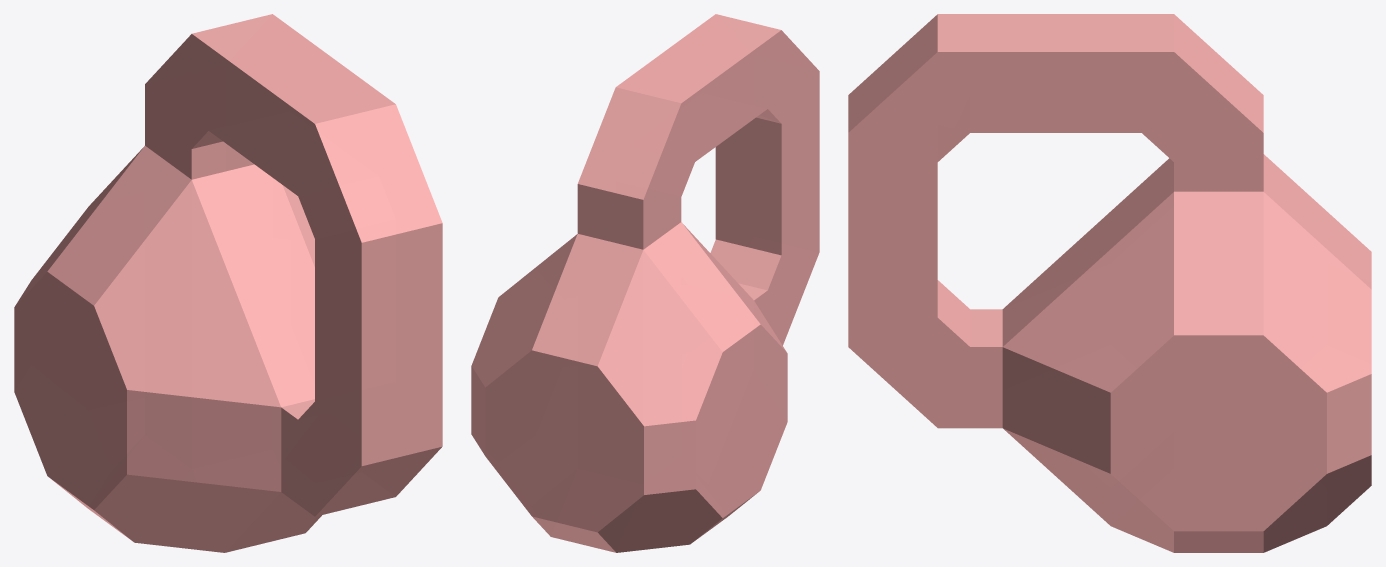
The model's file is TruncatedCuboctahedron.obj.
3 renders of one model, left to right at view 1: azimuth 30°, elevation 25°; view 2: azimuth 150°, elevation 25°; view 3: azimuth 270°, elevation 25°, orthographic. The views are drawn at different scales.
Size of the model in its own units: 1.41 by 2.42 by 2.42.
